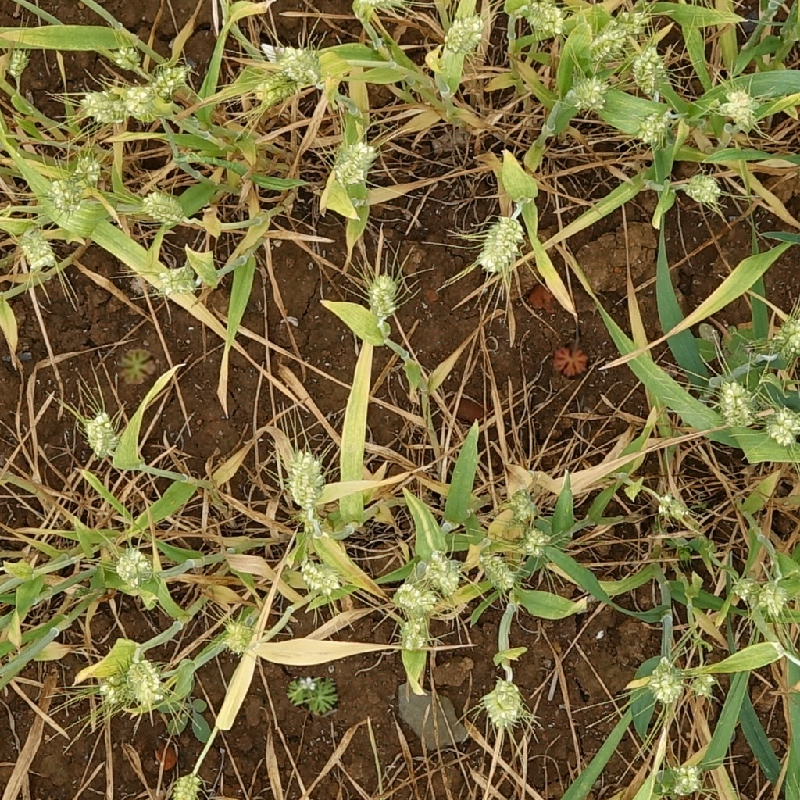spikelet: (585, 7, 646, 64), (476, 211, 525, 275), (284, 447, 325, 511), (268, 42, 323, 86), (329, 138, 378, 186), (480, 676, 524, 729), (127, 655, 167, 709), (715, 378, 757, 429), (645, 655, 686, 704), (138, 187, 187, 226), (82, 409, 120, 459), (442, 12, 484, 57), (78, 86, 129, 123), (296, 556, 343, 596), (656, 759, 704, 798), (631, 45, 668, 94), (16, 226, 57, 270), (718, 86, 759, 130), (112, 544, 153, 588), (423, 549, 463, 594), (365, 271, 400, 321), (391, 579, 437, 616), (156, 261, 200, 299), (518, 1, 567, 35), (478, 549, 517, 591), (146, 62, 190, 99), (566, 73, 609, 110), (253, 70, 298, 104), (220, 616, 258, 656), (96, 669, 134, 709), (586, 26, 626, 64), (636, 107, 674, 146), (763, 406, 800, 446), (768, 314, 800, 358), (46, 176, 84, 213), (755, 576, 789, 617), (683, 171, 722, 205), (505, 486, 540, 522), (517, 525, 553, 559), (165, 769, 204, 799), (398, 615, 431, 650), (655, 489, 689, 522), (69, 154, 103, 187), (688, 663, 718, 699), (109, 42, 143, 72), (297, 506, 327, 538), (729, 573, 759, 602), (6, 46, 30, 78)
weed: (281, 670, 344, 720), (167, 694, 216, 745), (552, 341, 590, 380), (117, 348, 157, 384)
